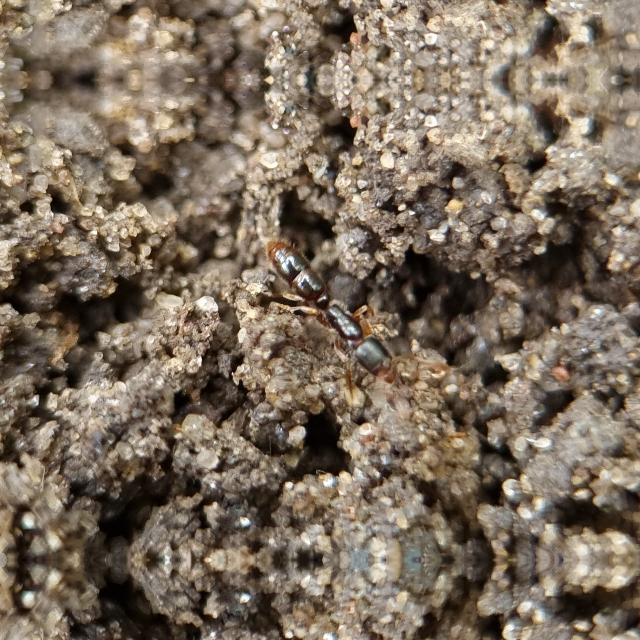Ponera: (239, 212, 426, 398)
